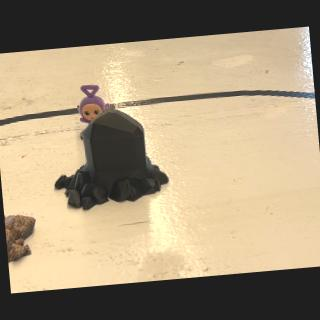teletubby: (77, 85, 109, 124)
